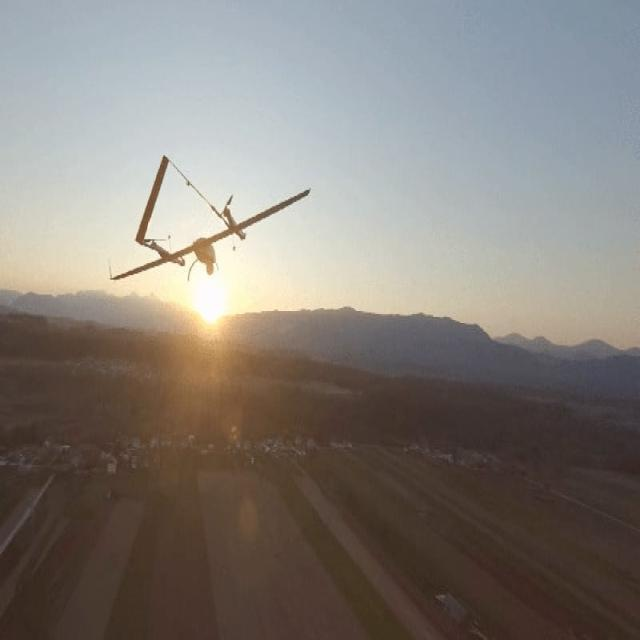iha: (102, 148, 321, 322)
